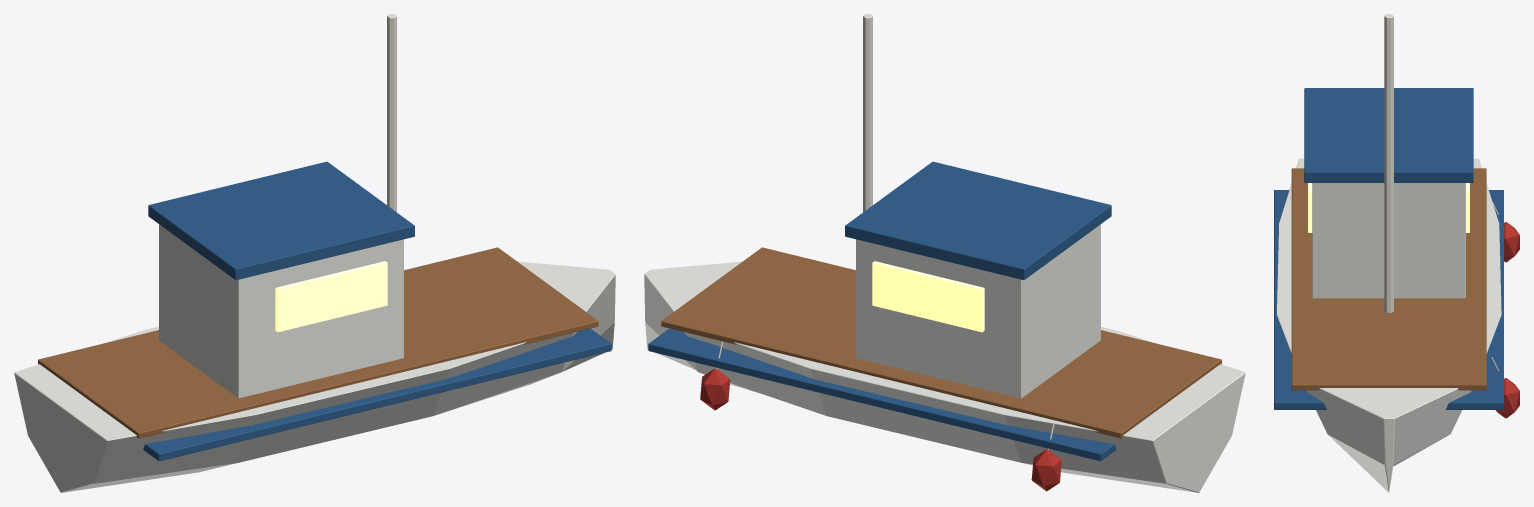
File: fiskebat.glb
3 views of the same model, side by side, from view 1: azimuth 30°, elevation 25°; view 2: azimuth 150°, elevation 25°; view 3: azimuth 270°, elevation 25° (orthographic). The views are drawn at different scales.
Visible parts, largest first — view 1: fiskebat; view 2: fiskebat; view 3: fiskebat.
Part boxes in pixels (x1=…): fiskebat: x1=14, y1=14, x2=615, y2=492; fiskebat: x1=644, y1=14, x2=1245, y2=492; fiskebat: x1=1274, y1=14, x2=1519, y2=492.
Bounding box in the file's own units: 6 × 4.25 × 2.4.
